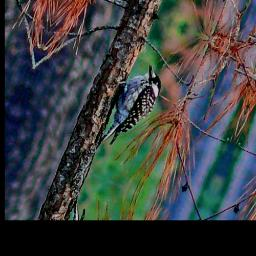Woodpecker: (81, 47, 177, 168)
